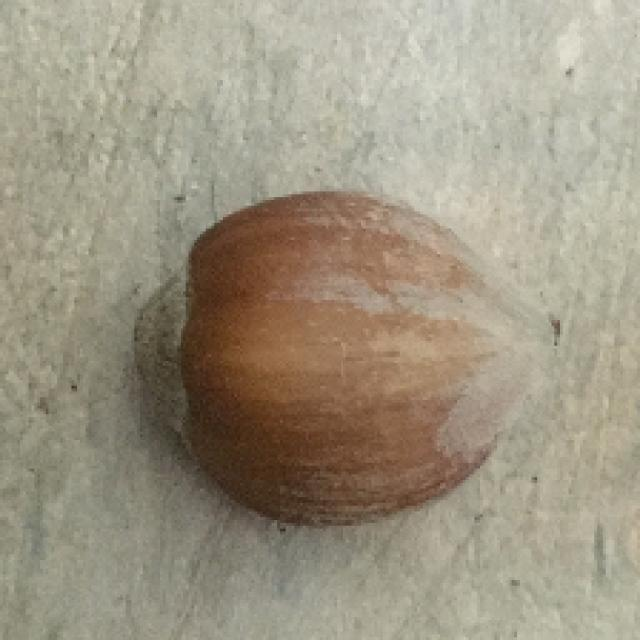qualityHazelnut: (121, 196, 563, 520)
